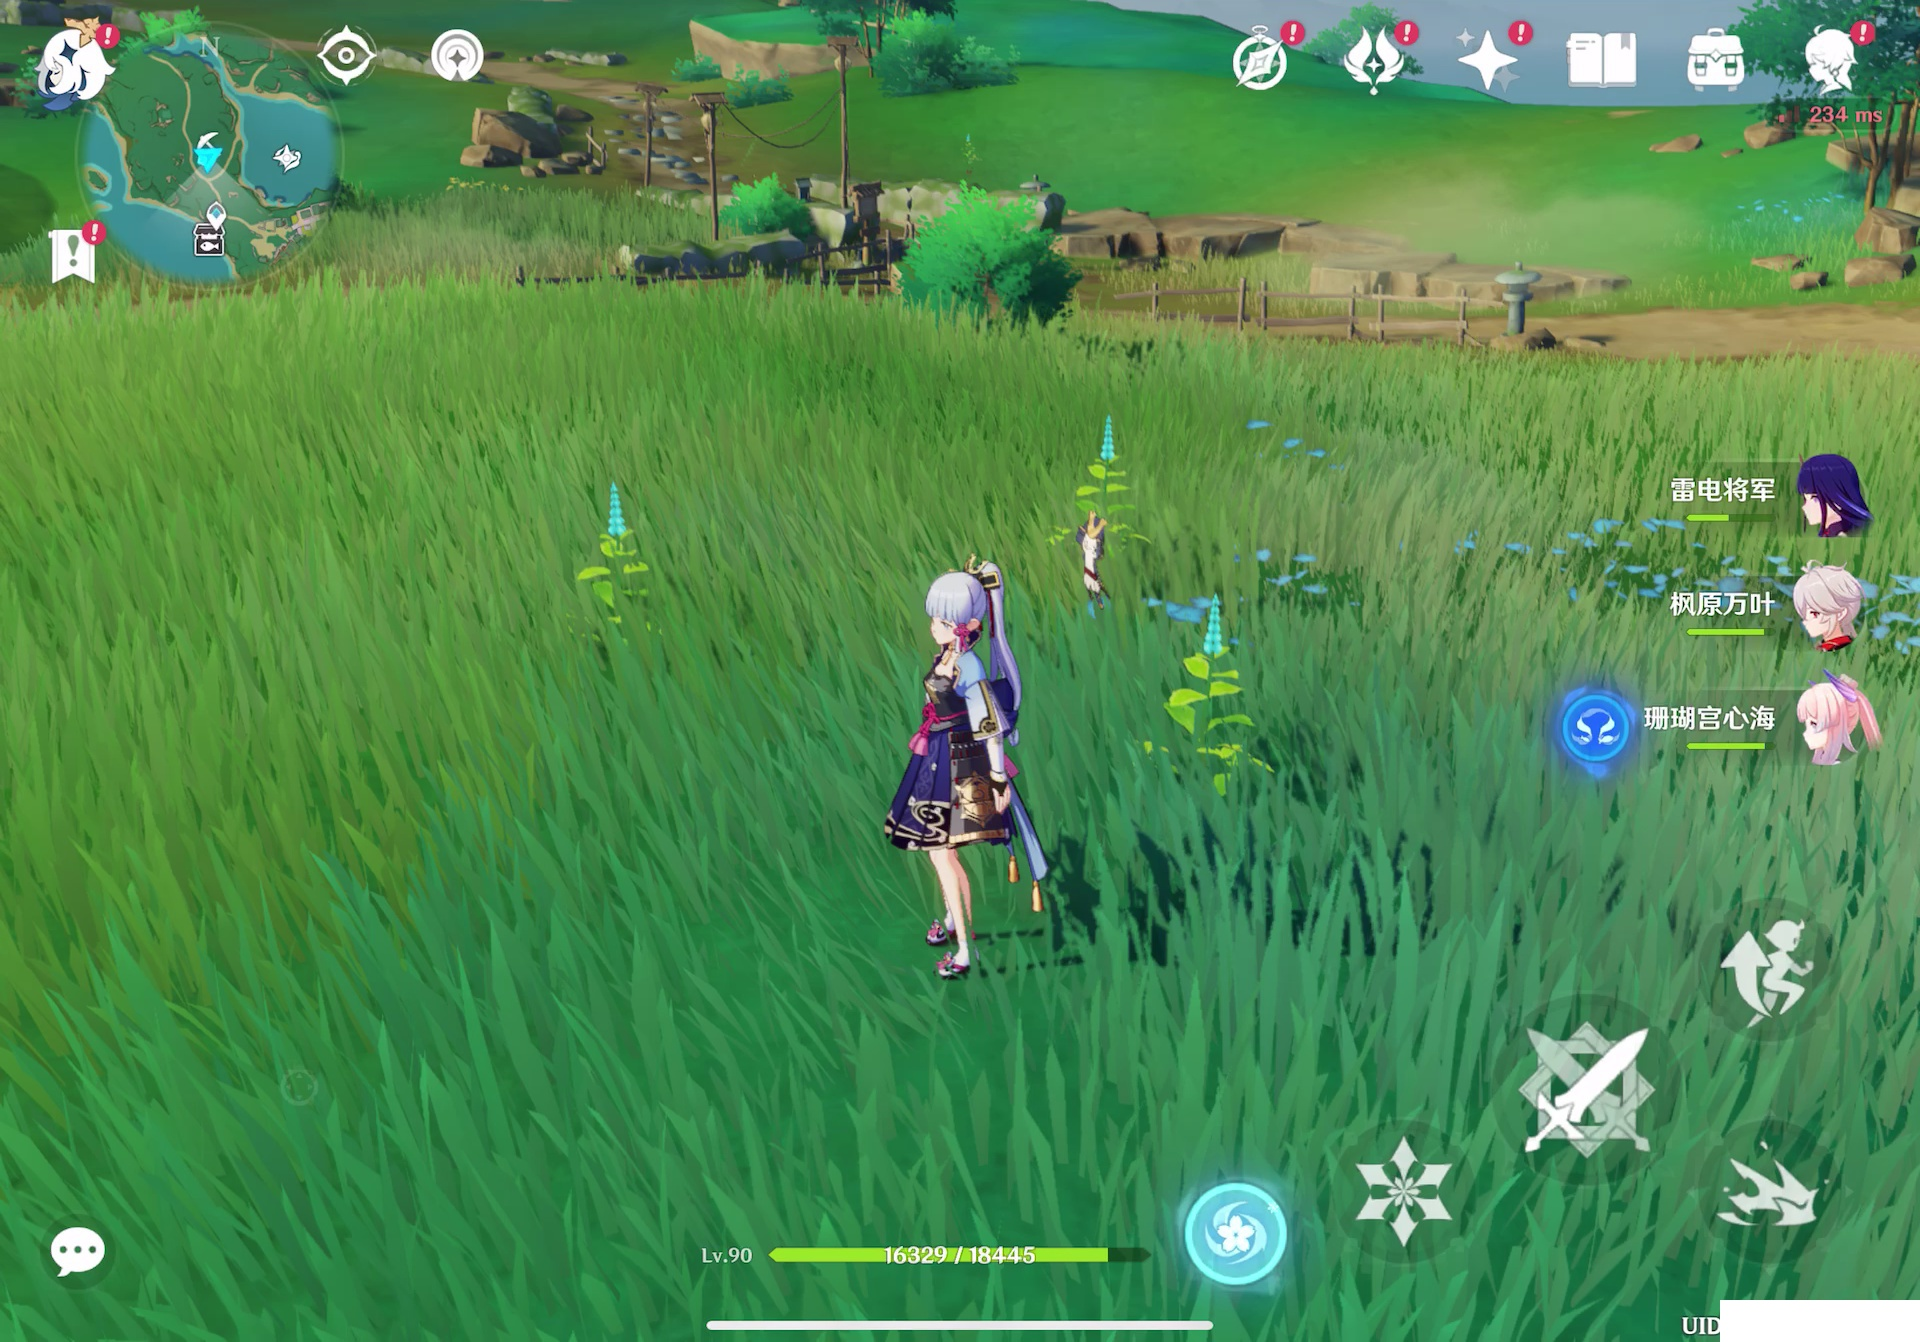没用的薄荷: (1161, 589, 1272, 796), (565, 481, 665, 652), (1042, 407, 1158, 518)
神里绫龟: (886, 562, 1058, 974)
